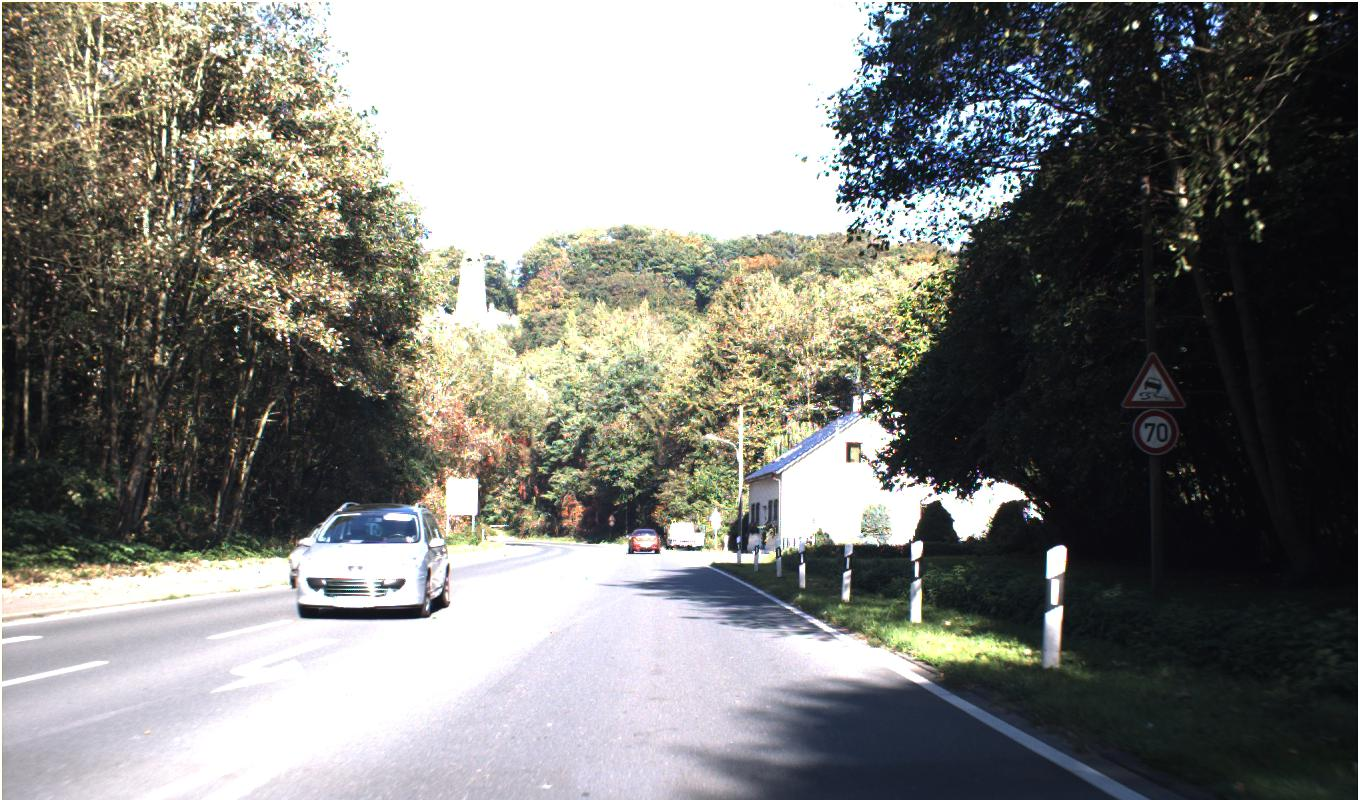danger: (1120, 350, 1187, 409)
prohibitory: (1131, 409, 1179, 456)
